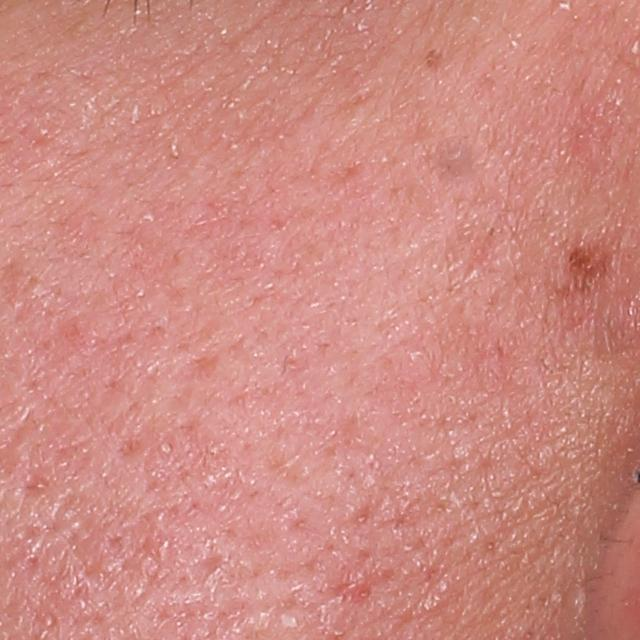melasma: (546, 240, 614, 317), (428, 132, 484, 182), (422, 49, 442, 77)
